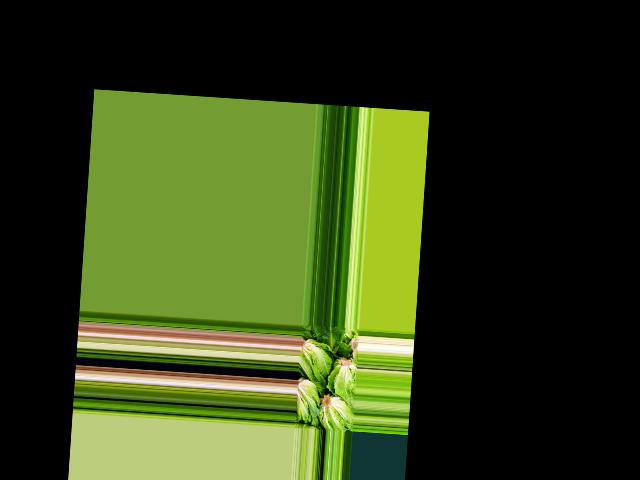lettuce: (319, 325, 345, 351)
